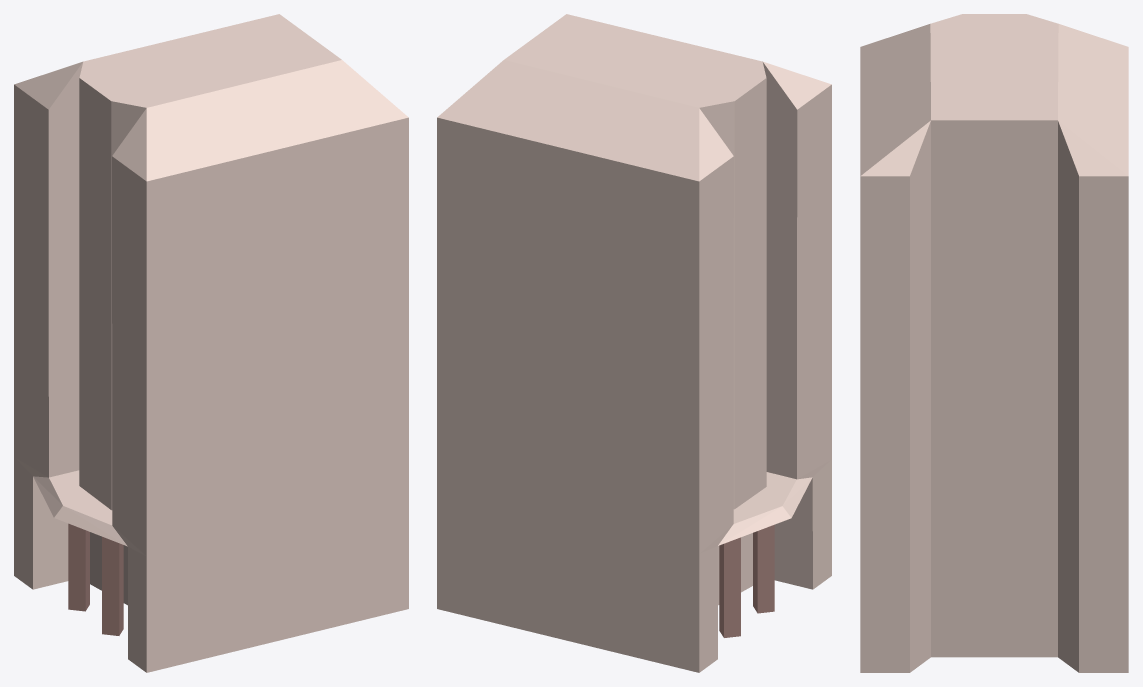
The model's file is Edificio025.FBX.
3 renders of one model, left to right at view 1: azimuth 30°, elevation 25°; view 2: azimuth 150°, elevation 25°; view 3: azimuth 270°, elevation 25°, orthographic.
Parts seen in each view (by area): view 1: Edificio008; view 2: Edificio008; view 3: Edificio008.
Part boxes in pixels (x1,y1,x2,y2): Edificio008: (14, 14, 408, 672); Edificio008: (437, 14, 831, 672); Edificio008: (860, 14, 1128, 672).
Size of the model in its own units: 896 by 1578 by 714.
